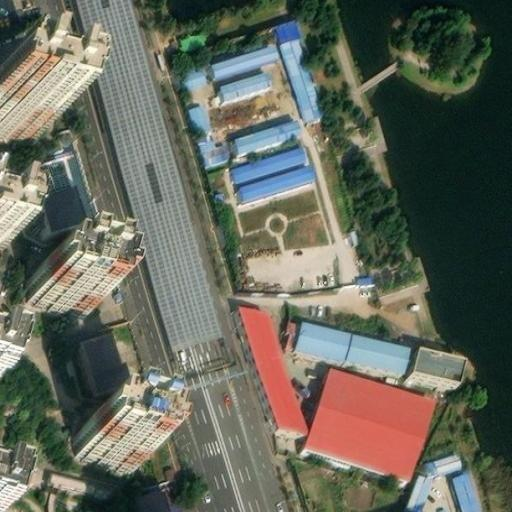building: (306, 364, 431, 474), (237, 298, 307, 426), (28, 144, 101, 233), (291, 317, 413, 368), (275, 12, 324, 113), (21, 253, 94, 307), (77, 411, 151, 461), (236, 156, 313, 196), (189, 96, 232, 161), (83, 328, 129, 386), (232, 142, 304, 178), (406, 343, 463, 383), (210, 39, 276, 73), (233, 114, 298, 148), (217, 66, 272, 97), (451, 465, 481, 512), (401, 469, 431, 512), (425, 446, 462, 467), (174, 59, 202, 85)
